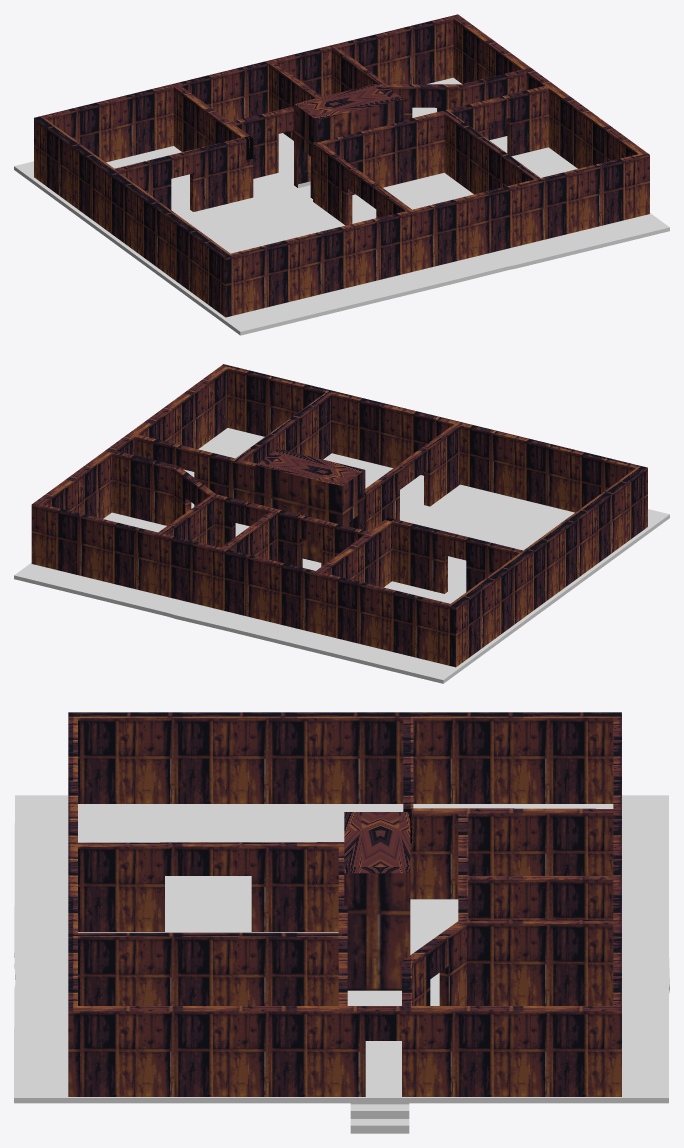
Rendered from CasaNueva.fbx.
3 renders of one model, top to bottom at view 1: azimuth 30°, elevation 25°; view 2: azimuth 150°, elevation 25°; view 3: azimuth 270°, elevation 25°, orthographic. The views are drawn at different scales.
Parts seen in each view (by area): view 1: pared_escalera; view 2: pared_escalera; view 3: pared_escalera.
Part boxes in pixels (x1,y1,x2,y2): pared_escalera: (14, 14, 669, 335); pared_escalera: (14, 364, 669, 683); pared_escalera: (14, 712, 669, 1133).
Size of the model in its own units: 38.79 by 14.6 by 35.57.
Materials: 2 (1 with a texture image).
